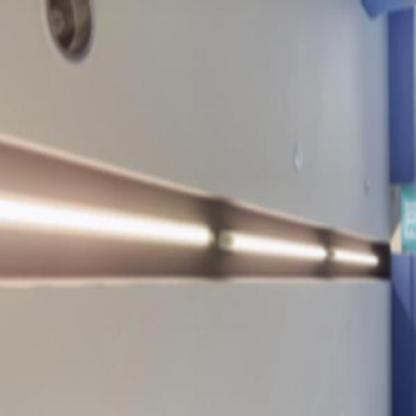light_on: (0, 179, 214, 250), (220, 226, 329, 269), (331, 233, 381, 268)
